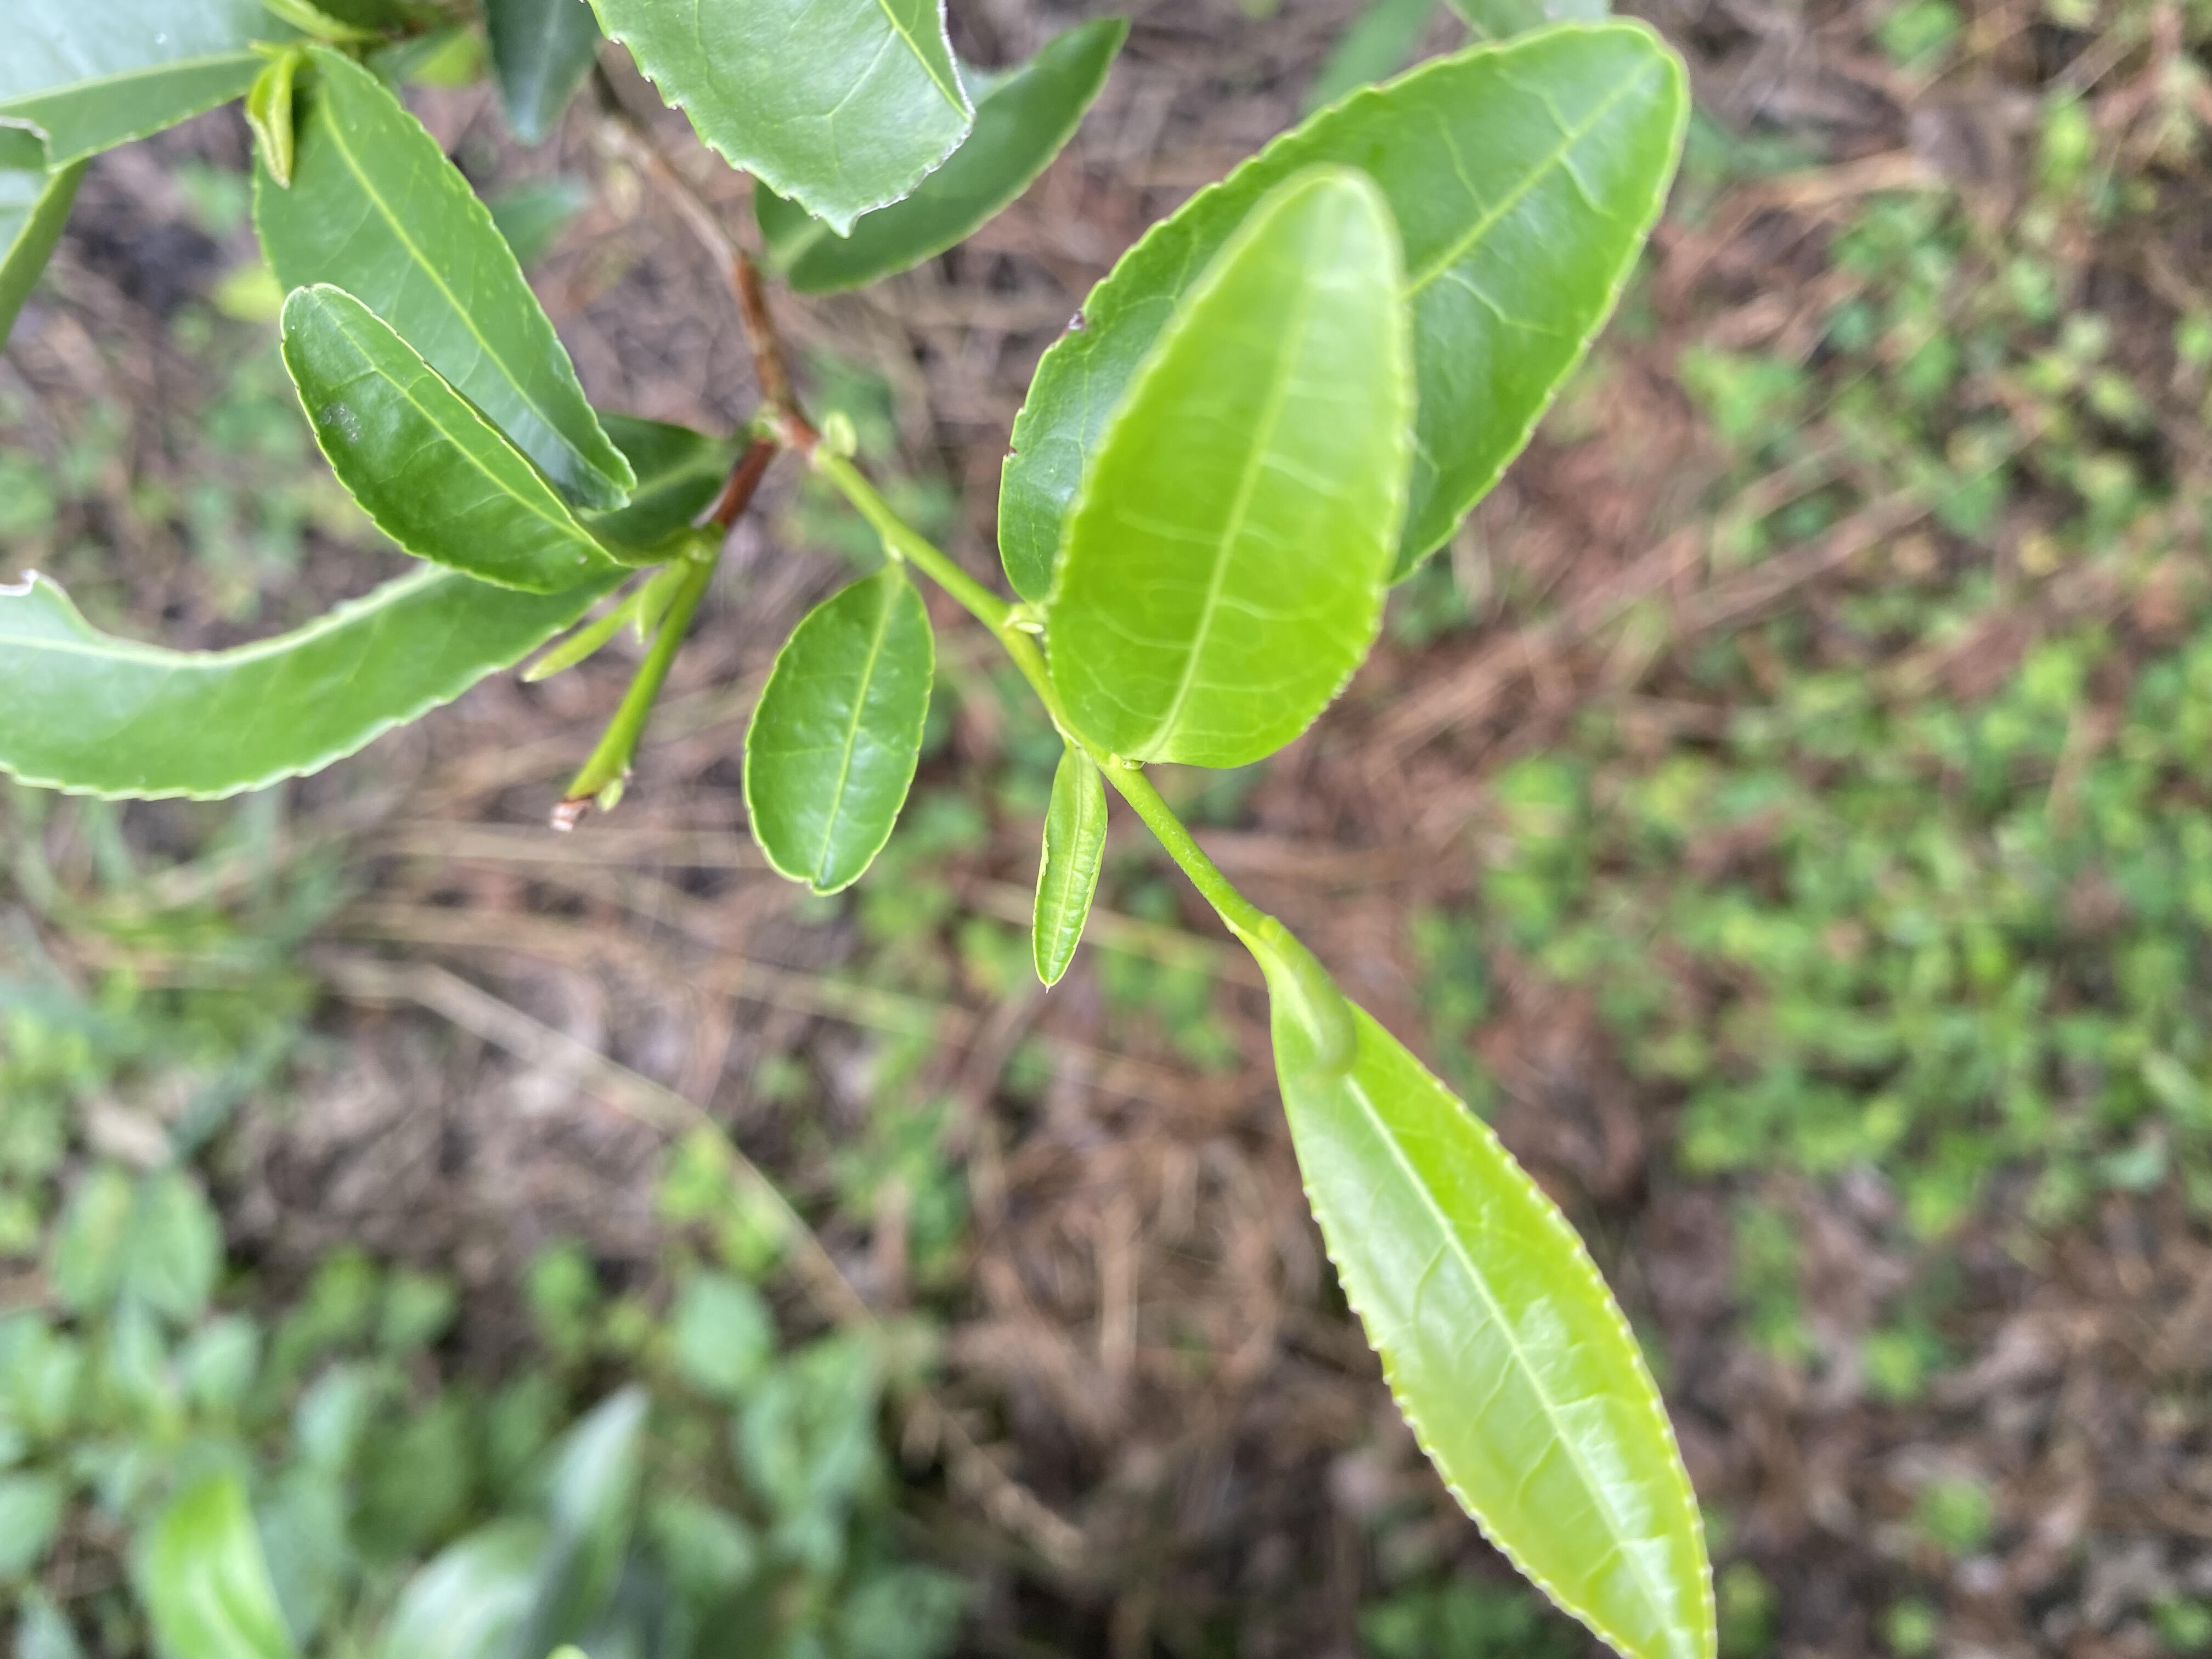healthy: (1264, 983, 1716, 1654), (1042, 174, 1418, 774), (740, 572, 934, 896)
